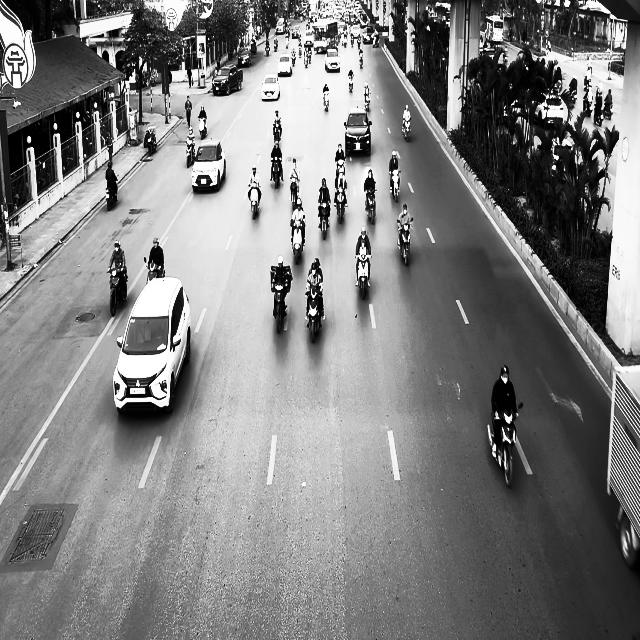bus: (312, 18, 338, 54), (485, 13, 504, 44)
car: (113, 275, 191, 415), (191, 139, 226, 193), (343, 106, 372, 156), (533, 93, 564, 128), (212, 64, 243, 96), (261, 73, 281, 101), (324, 48, 340, 72), (277, 54, 293, 76), (238, 47, 252, 66)
motorbike: (487, 402, 523, 488), (270, 267, 292, 333), (305, 282, 324, 343), (107, 266, 128, 316), (397, 217, 413, 265), (355, 253, 371, 299), (290, 220, 304, 264), (143, 256, 165, 284), (334, 184, 347, 223), (318, 200, 330, 240), (105, 175, 118, 210), (364, 187, 376, 224), (270, 157, 283, 187), (248, 186, 260, 218), (289, 176, 300, 210), (389, 170, 400, 202), (145, 126, 157, 154), (582, 85, 592, 116), (186, 140, 195, 168), (401, 117, 411, 141), (603, 94, 612, 120), (272, 122, 282, 143), (198, 116, 207, 139), (322, 86, 330, 111), (364, 88, 371, 111), (348, 72, 353, 92), (359, 50, 363, 68)
